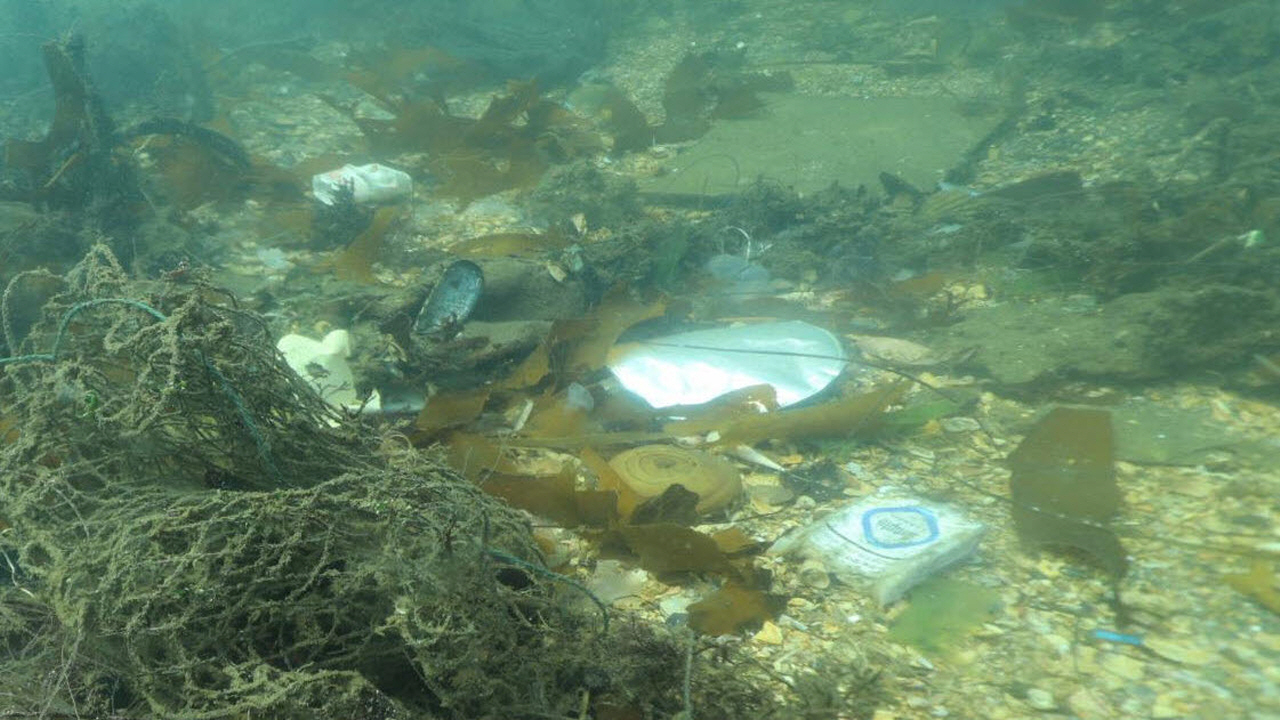fish net: (0, 242, 611, 720)
